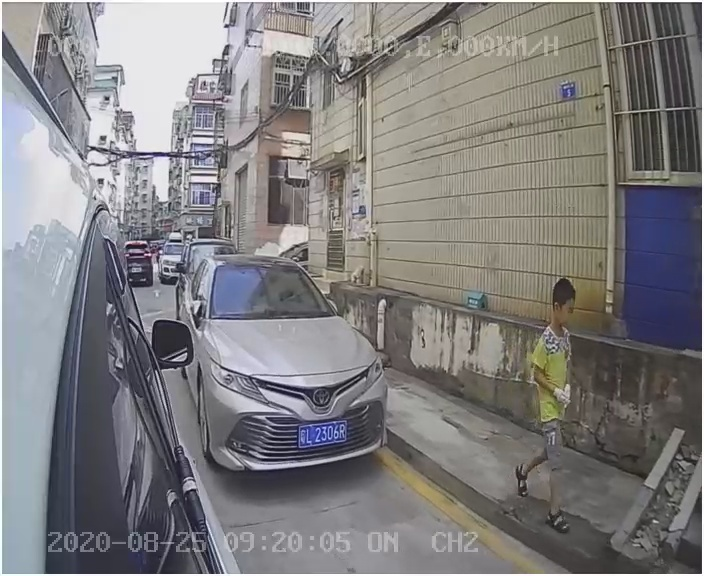person: (500, 273, 596, 531)
